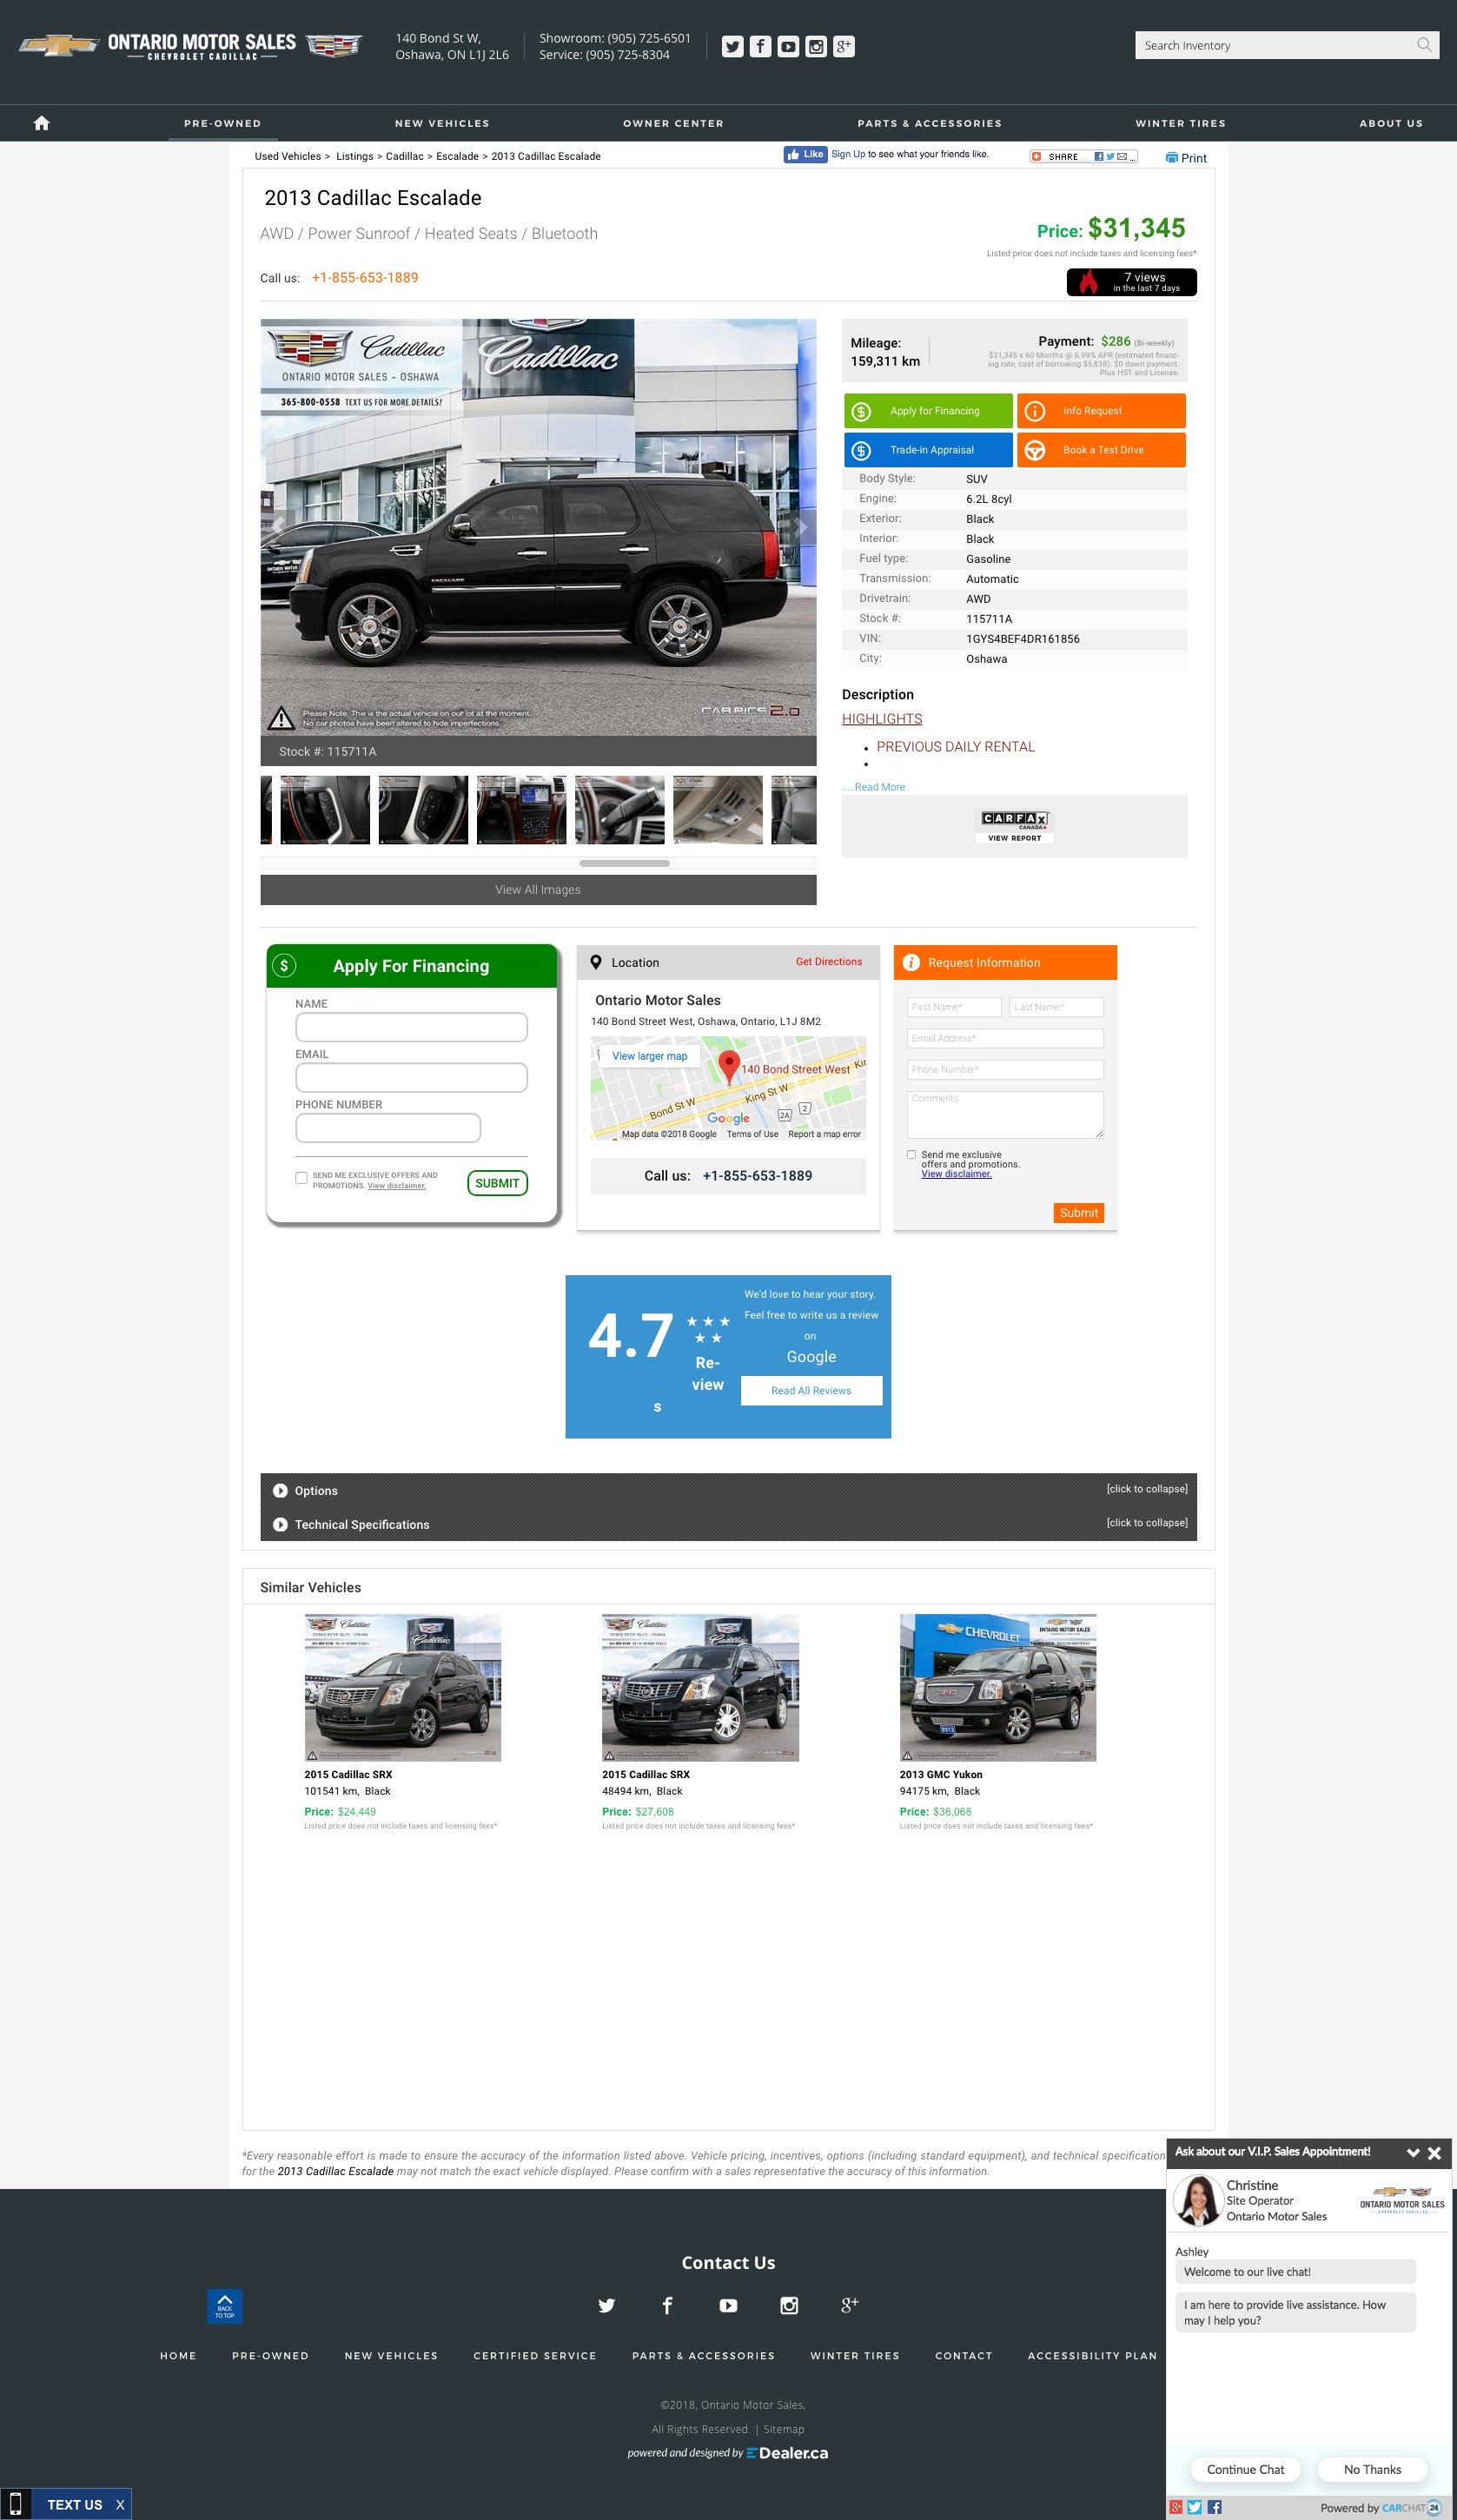car: (793, 517, 808, 539)
